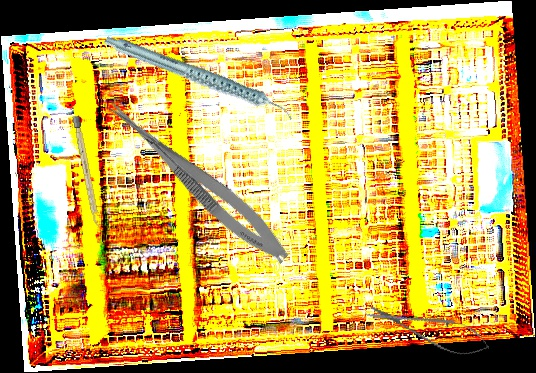Handpiece: (102, 0, 296, 158)
Micro Scissor: (93, 91, 298, 271), (362, 294, 494, 364)
Scalpel Handle: (72, 115, 101, 228)
